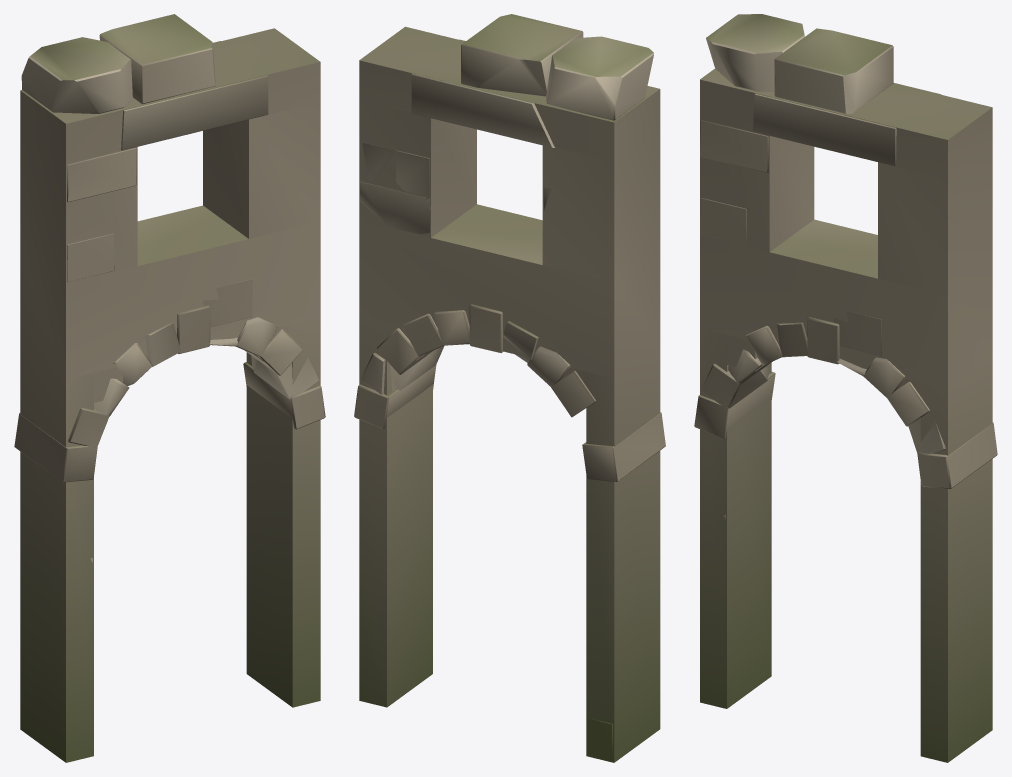
File: theatre_stage_door.glb
The picture shows the model from 3 angles, left to right: view 1: azimuth 30°, elevation 25°; view 2: azimuth 150°, elevation 25°; view 3: azimuth 330°, elevation 25°; orthographic projection. The views are drawn at different scales.
Parts seen in each view (by area): view 1: theatre_stage_door_far, theatre_stage_door; view 2: theatre_stage_door_far, theatre_stage_door; view 3: theatre_stage_door_far, theatre_stage_door.
Part boxes in pixels (left/top/right/bottom): theatre_stage_door_far: left=20, top=28, right=320, bottom=762; theatre_stage_door: left=14, top=14, right=325, bottom=562; theatre_stage_door_far: left=359, top=26, right=660, bottom=762; theatre_stage_door: left=354, top=14, right=665, bottom=760; theatre_stage_door_far: left=700, top=68, right=992, bottom=762; theatre_stage_door: left=694, top=14, right=997, bottom=519.
Size of the model in its own units: 16.58 by 40.8 by 5.32.
